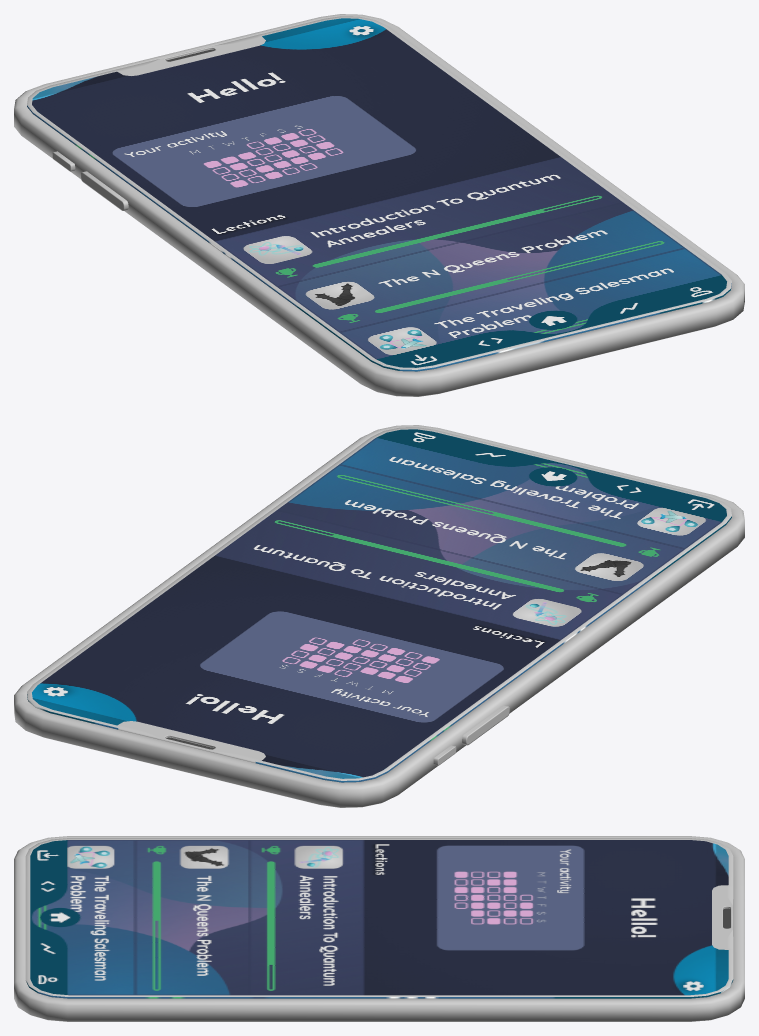
File: smartphone.glb
3 views of the same model, one above another, from view 1: azimuth 30°, elevation 25°; view 2: azimuth 150°, elevation 25°; view 3: azimuth 270°, elevation 25° (orthographic). The views are drawn at different scales.
Parts seen in each view (by area): view 1: SmartPhone_Screen, SmartPhone_Body, SmartPhone_Switch.002; view 2: SmartPhone_Screen, SmartPhone_Body, SmartPhone_Switch.002; view 3: SmartPhone_Screen, SmartPhone_Body.
Part boxes in pixels (x1,y1,x2,y2): SmartPhone_Screen: [27, 16, 731, 371]; SmartPhone_Body: [14, 14, 744, 396]; SmartPhone_Switch.002: [80, 171, 128, 210]; SmartPhone_Screen: [27, 427, 731, 782]; SmartPhone_Body: [14, 425, 744, 807]; SmartPhone_Switch.002: [462, 705, 509, 745]; SmartPhone_Screen: [25, 838, 733, 998]; SmartPhone_Body: [14, 836, 744, 1021].
Size of the model in its own units: 13.94 by 1.16 by 25.18.
Materials: 4 (1 with a texture image).
